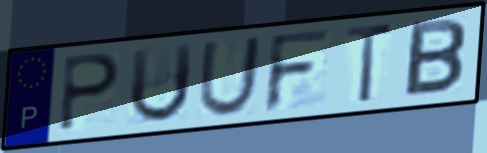B: (400, 17, 470, 101)
F: (261, 26, 334, 116)
P: (55, 51, 124, 134)
T: (342, 20, 397, 106)
U: (126, 40, 197, 127), (195, 33, 265, 118)
